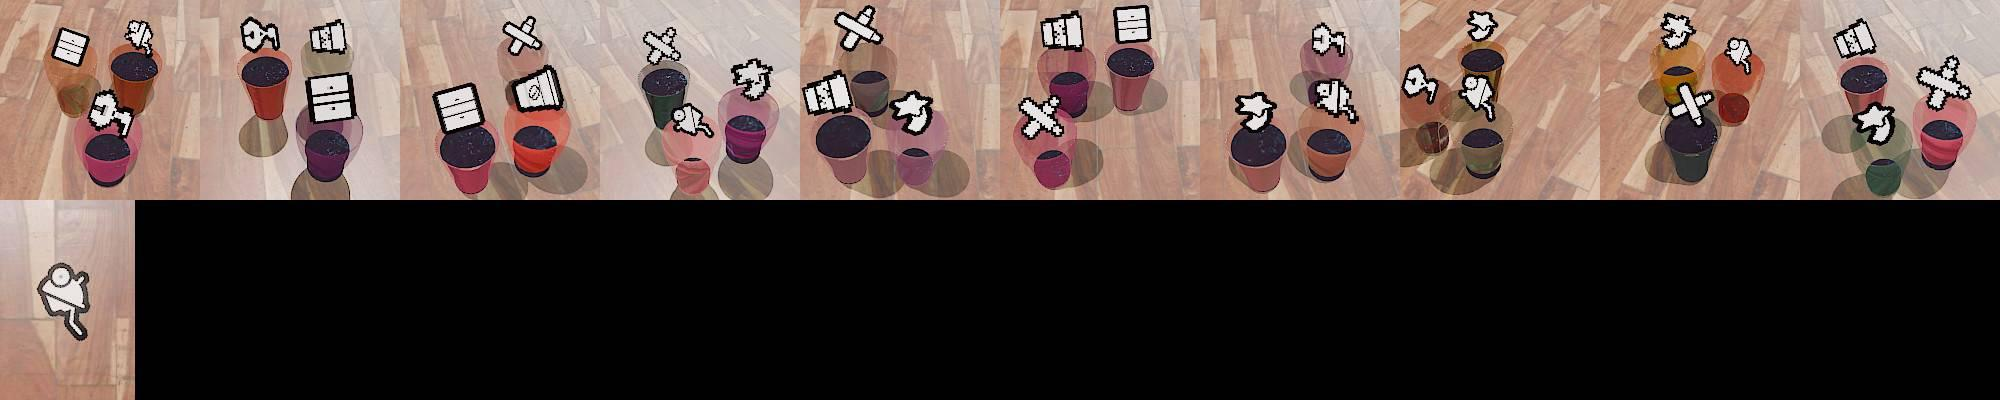icon: (40, 261, 97, 341), (1915, 55, 1972, 110), (431, 82, 486, 136), (509, 65, 566, 115), (305, 70, 356, 124), (801, 70, 855, 117), (87, 89, 135, 139), (1017, 92, 1066, 140), (1311, 76, 1361, 122), (834, 5, 883, 51), (1667, 80, 1714, 125), (889, 89, 934, 135), (1458, 73, 1497, 122), (1853, 101, 1897, 144), (1833, 17, 1878, 59), (1040, 10, 1084, 52), (730, 57, 773, 99), (1235, 89, 1277, 131), (50, 25, 91, 68), (670, 102, 716, 139), (503, 15, 542, 56), (1112, 4, 1152, 43), (642, 25, 681, 65), (306, 18, 348, 55), (240, 17, 281, 54), (1658, 11, 1695, 51), (1404, 65, 1440, 104), (1311, 19, 1347, 56), (1723, 37, 1753, 74), (125, 19, 154, 55), (1466, 10, 1497, 42)
